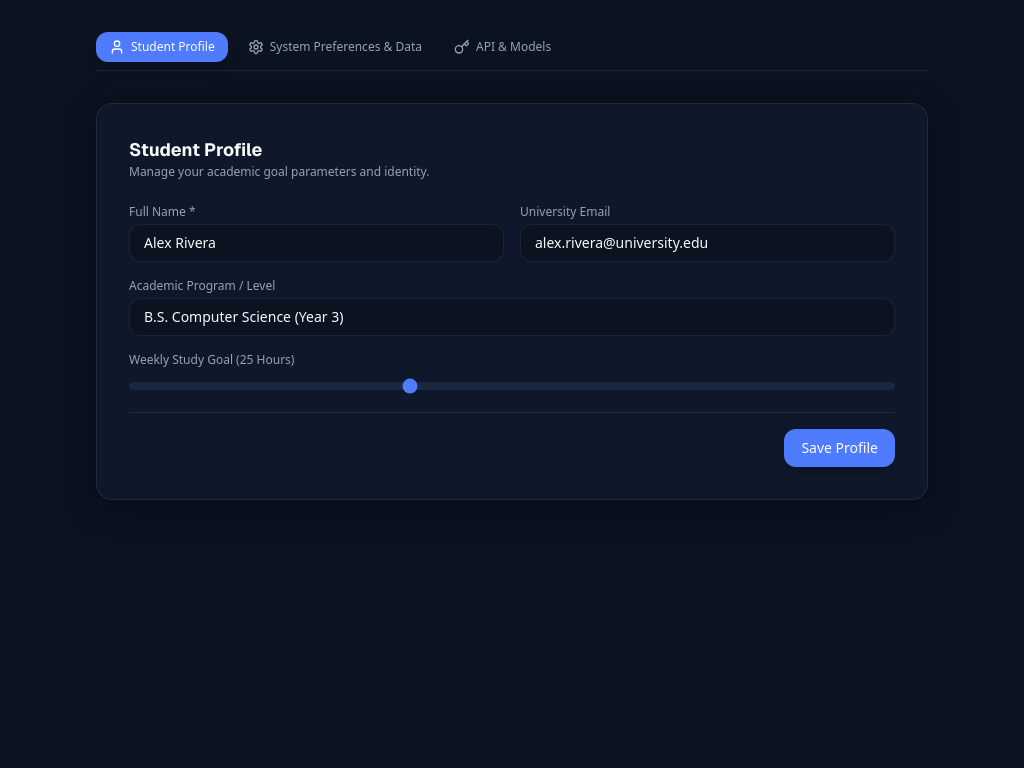
WP-04 Settings complete-backup integration › shows a separate Version 2 replacement restore control
Click the button "System Preferences & Data" at [335, 47], box [236,33,434,61]
(page scrolled)
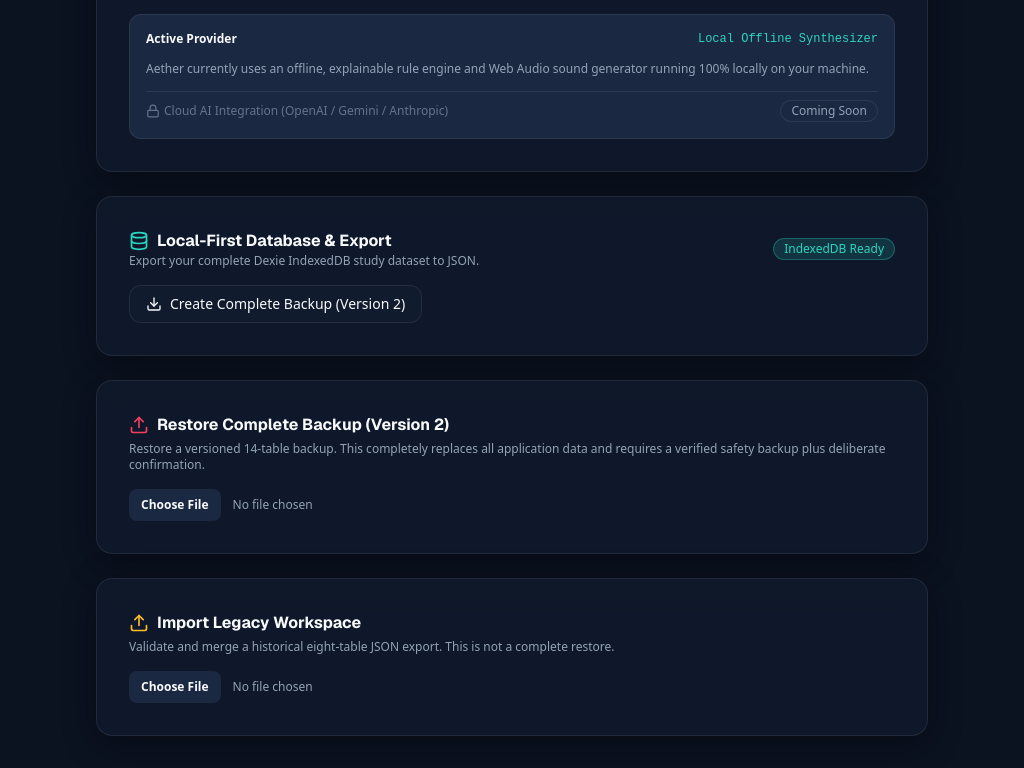
Result: the heading "Restore Complete Backup (Version 2)" is shown at [129,414,449,434]
Result: the text "completely replaces all application data" is shown at [129,440,886,472]
Result: the heading "Import Legacy Workspace" is shown at [129,612,361,632]
